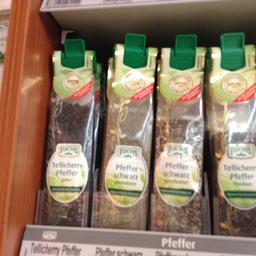spices: (94, 43, 156, 224), (152, 46, 205, 232), (208, 44, 255, 234), (50, 46, 92, 228)
